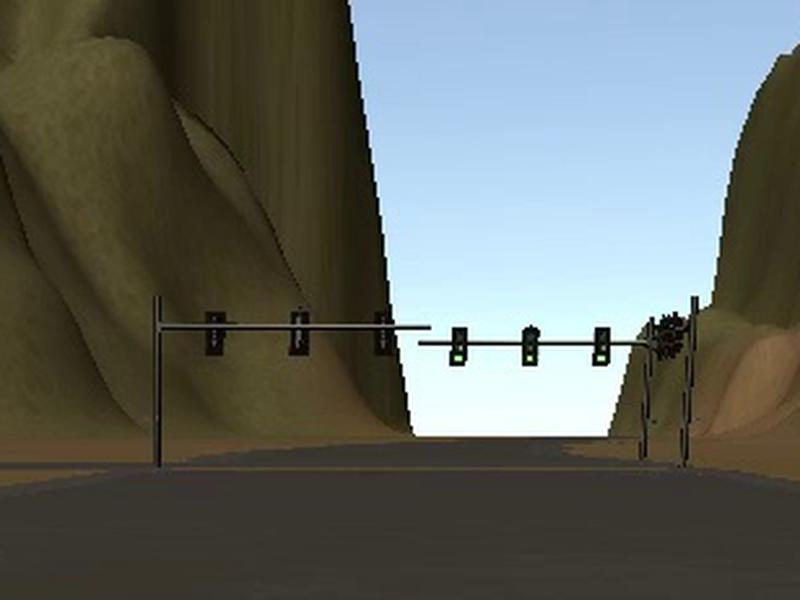Green: (590, 327, 609, 366), (449, 326, 467, 366), (522, 327, 538, 366)
